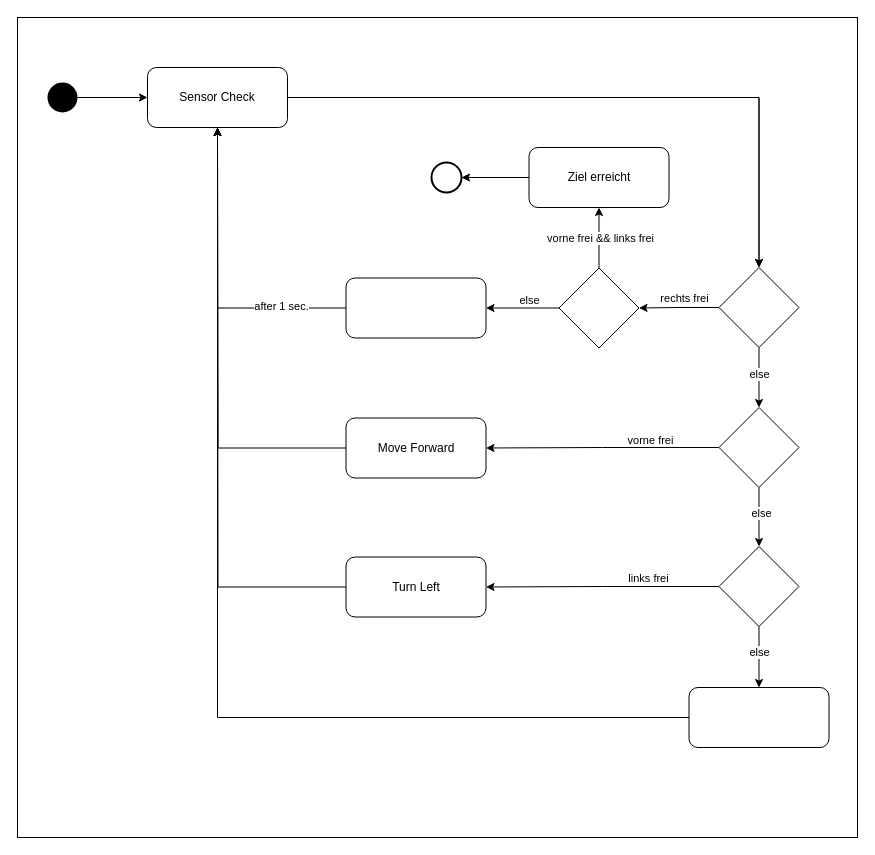
The diagram is 875 pixels wide and 855 high, and some of its shapes have lost their labels. The centre of each missing label's shape, as x and y in pixels:
"Move Backward" goes at pixel 758 717.
"Turn Right" goes at pixel 415 307.
